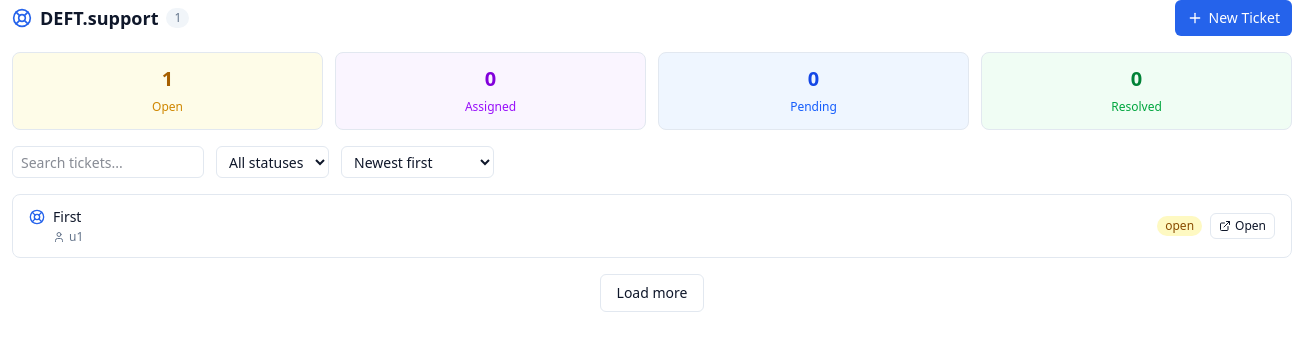
SupportManagementView › supports load-more pagination flow
Click the button with test id "tickets-load-more" at (652, 293), box [600,274,704,312]
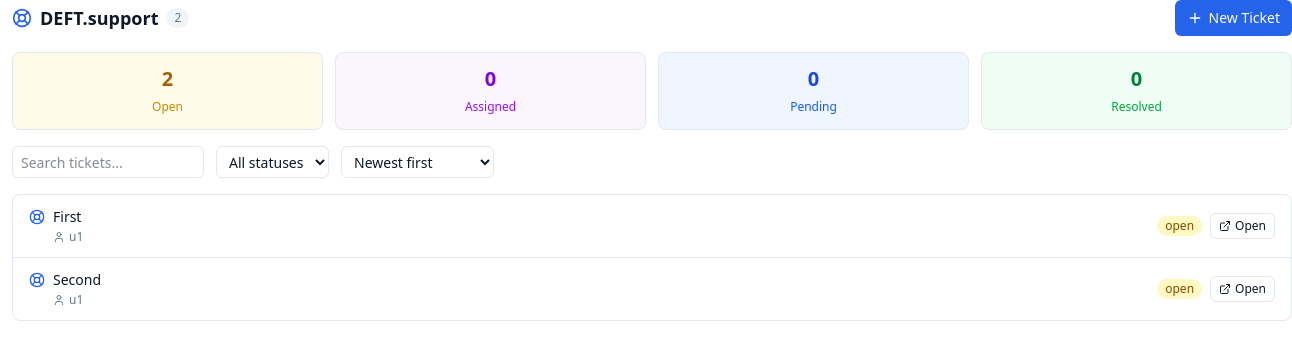
Expected: the element with test id "ticket-row-t-2" is shown, [13,258,1291,320]
